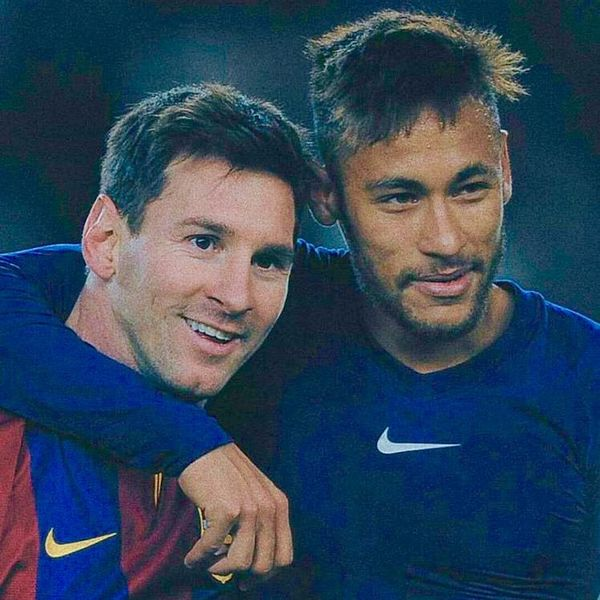nike: (43, 521, 120, 564), (377, 424, 466, 459)
